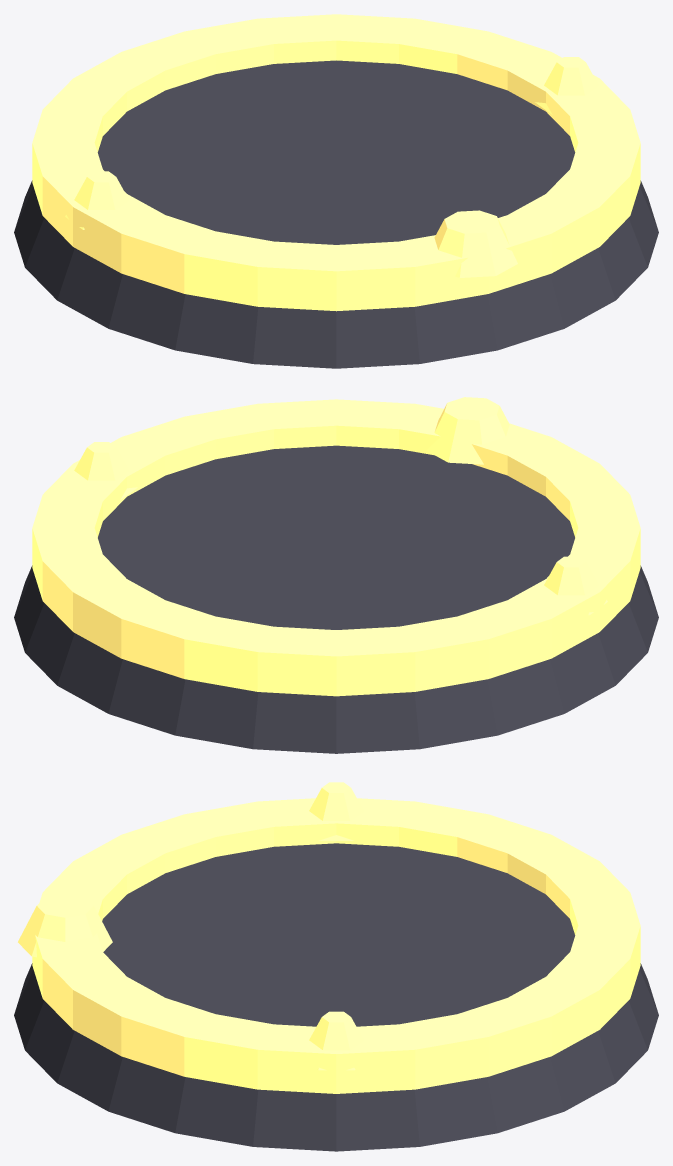
The model's file is unit_medallion_ascended.glb.
The picture shows the model from 3 angles, top to bottom: view 1: azimuth 30°, elevation 25°; view 2: azimuth 150°, elevation 25°; view 3: azimuth 270°, elevation 25°; orthographic projection.
Visible parts, largest first — view 1: SM_UnitMedallionAscended; view 2: SM_UnitMedallionAscended; view 3: SM_UnitMedallionAscended.
Boxes of the visible parts, bbox=[...] form: SM_UnitMedallionAscended: bbox=[14, 14, 658, 368]; SM_UnitMedallionAscended: bbox=[14, 397, 658, 753]; SM_UnitMedallionAscended: bbox=[14, 782, 658, 1151].
Size of the model in its own units: 0.88 by 0.17 by 0.88.
